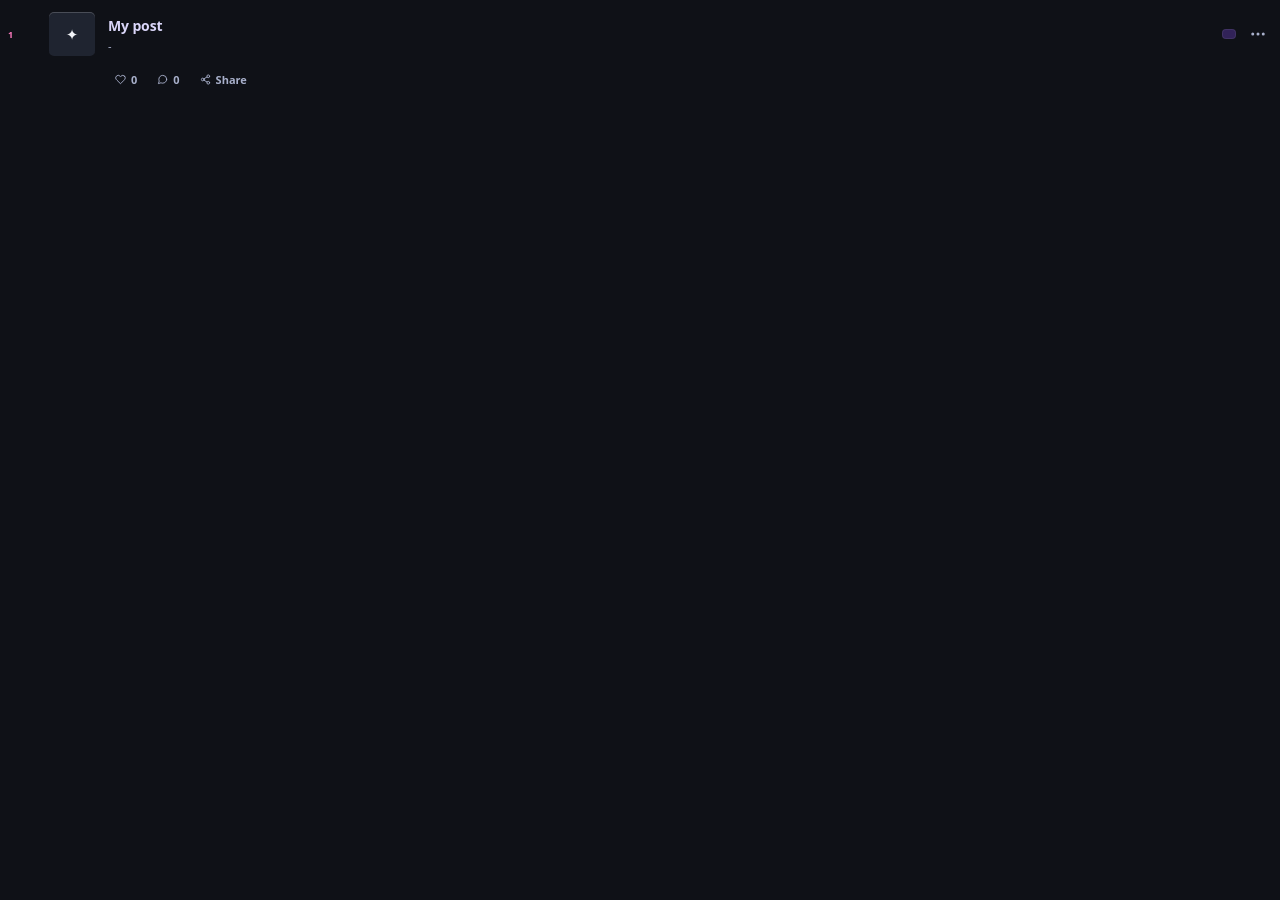
Test case: post deletion › requires confirmation and lets the author cancel
Click the button named "more options": (1257, 34) [1242,19,1272,49]
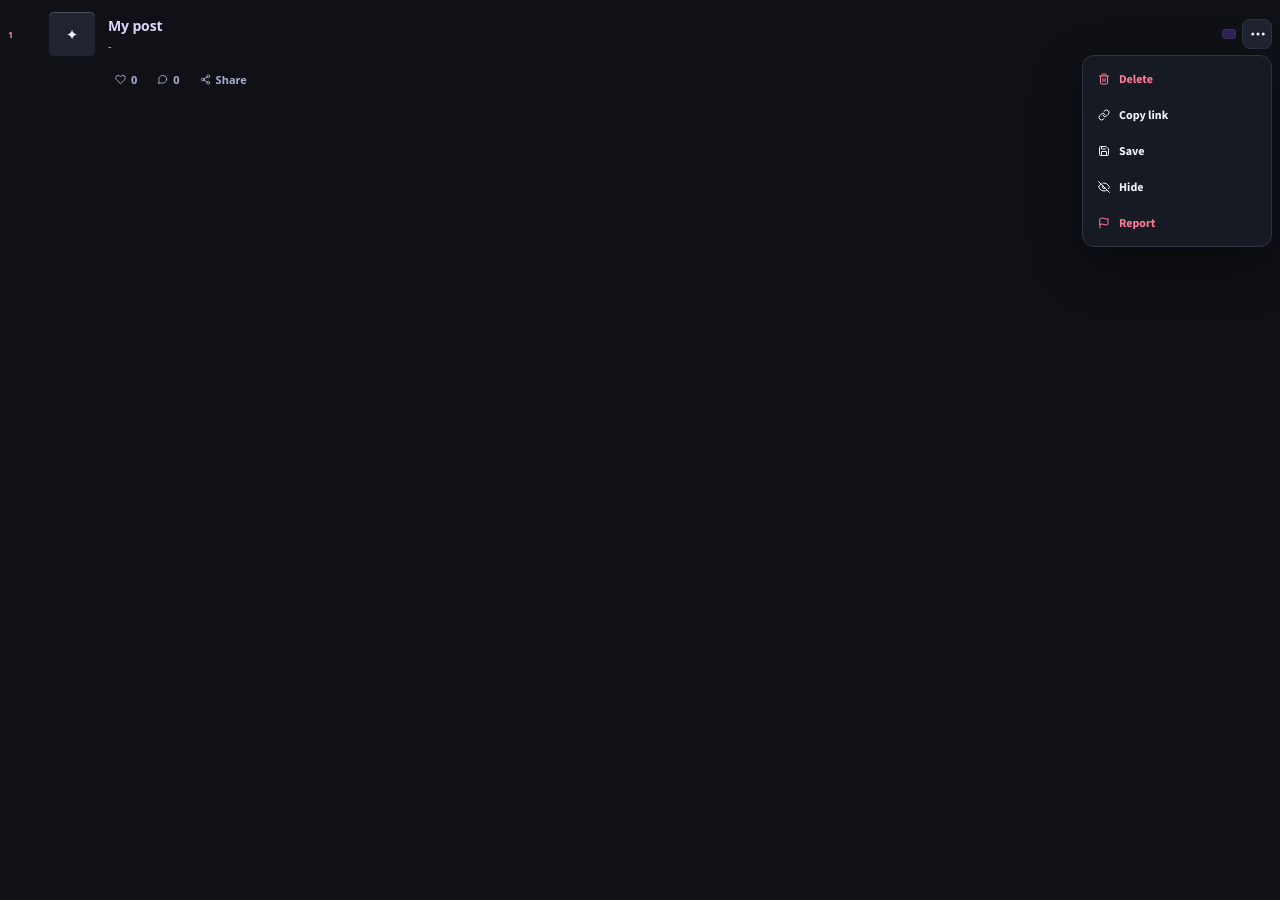
Click the menu item "Delete": (1177, 79) [1088,61,1266,97]
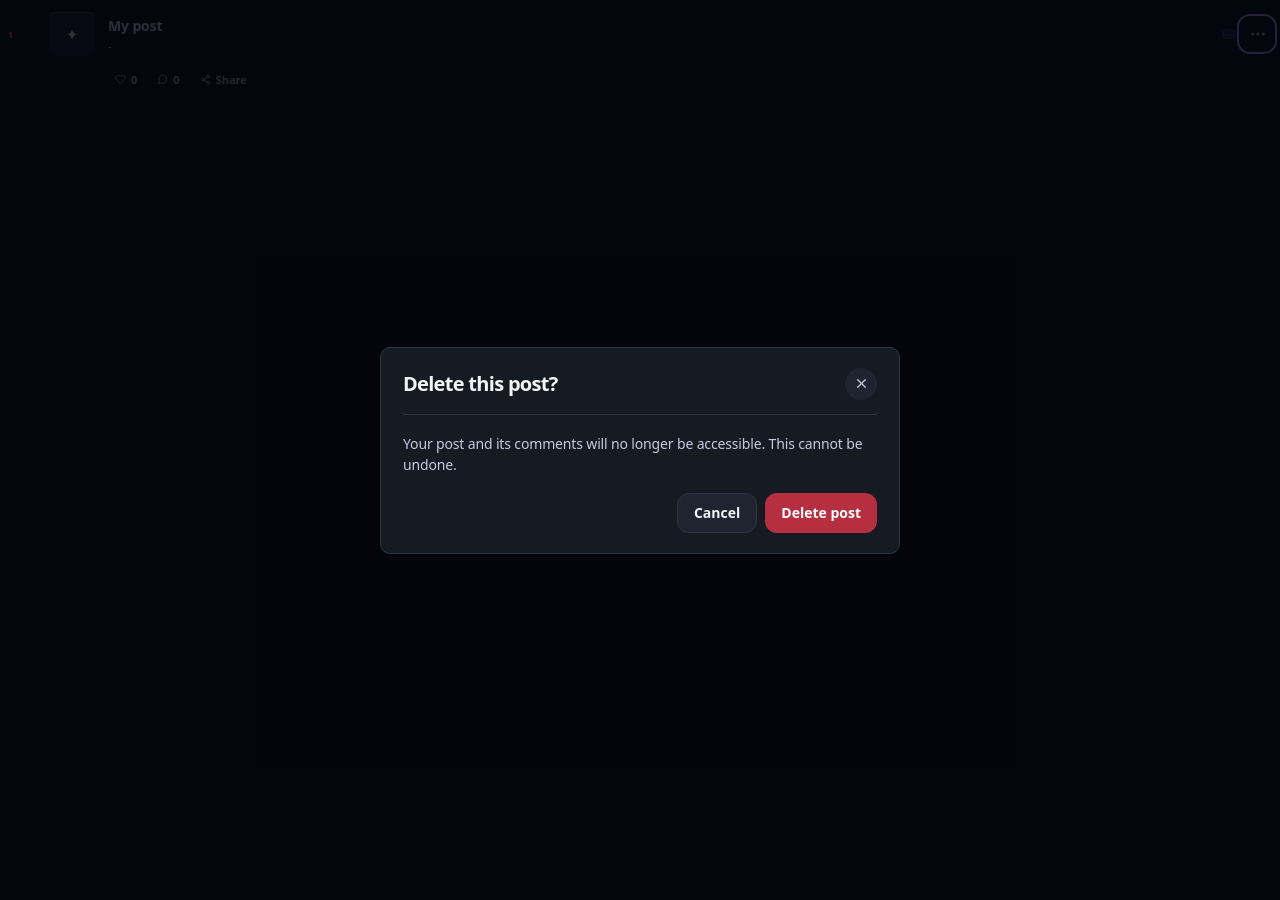
Expected: the text "cannot be undone" is shown, [403,434,862,474]
Click the button "Cancel": (717, 512) [677,492,757,532]
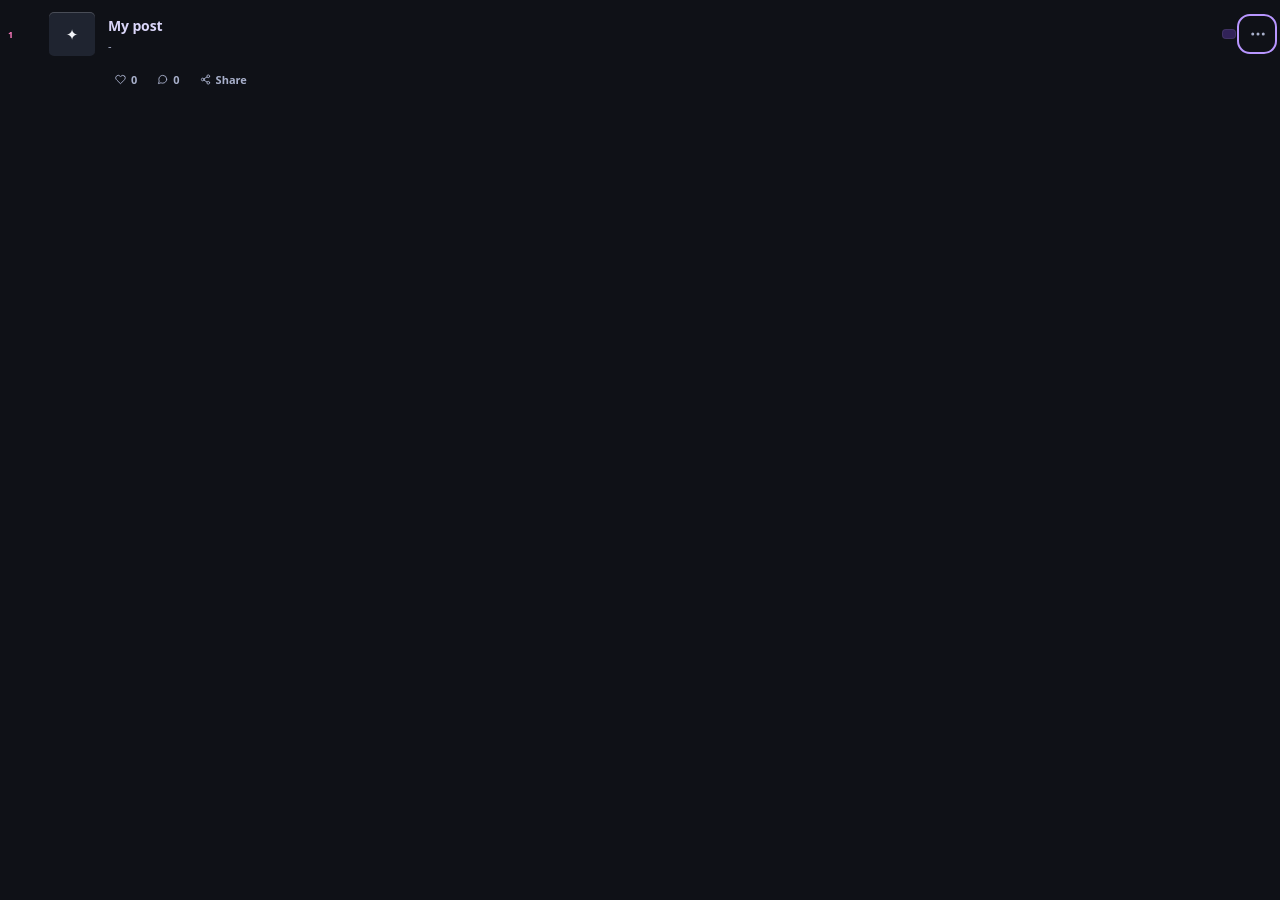
Expected: the dialog is gone
